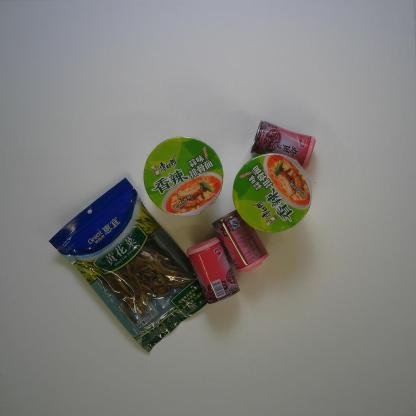Canned Food: (209, 205, 270, 275), (185, 234, 242, 306), (248, 118, 318, 170)
Dried Food: (46, 174, 218, 356)
Instant Noodles: (231, 150, 314, 236), (141, 134, 225, 218)
